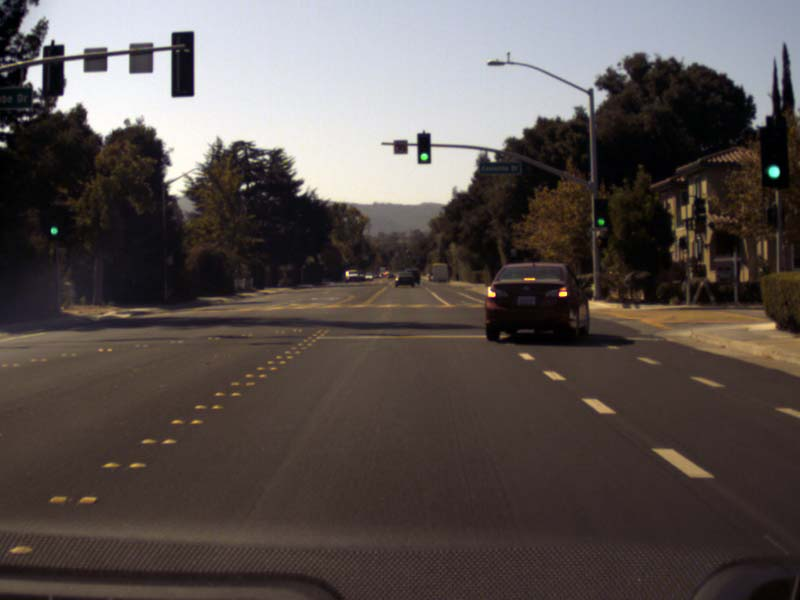Green: (761, 126, 787, 186), (417, 133, 430, 163), (47, 207, 59, 236), (595, 199, 607, 226)
